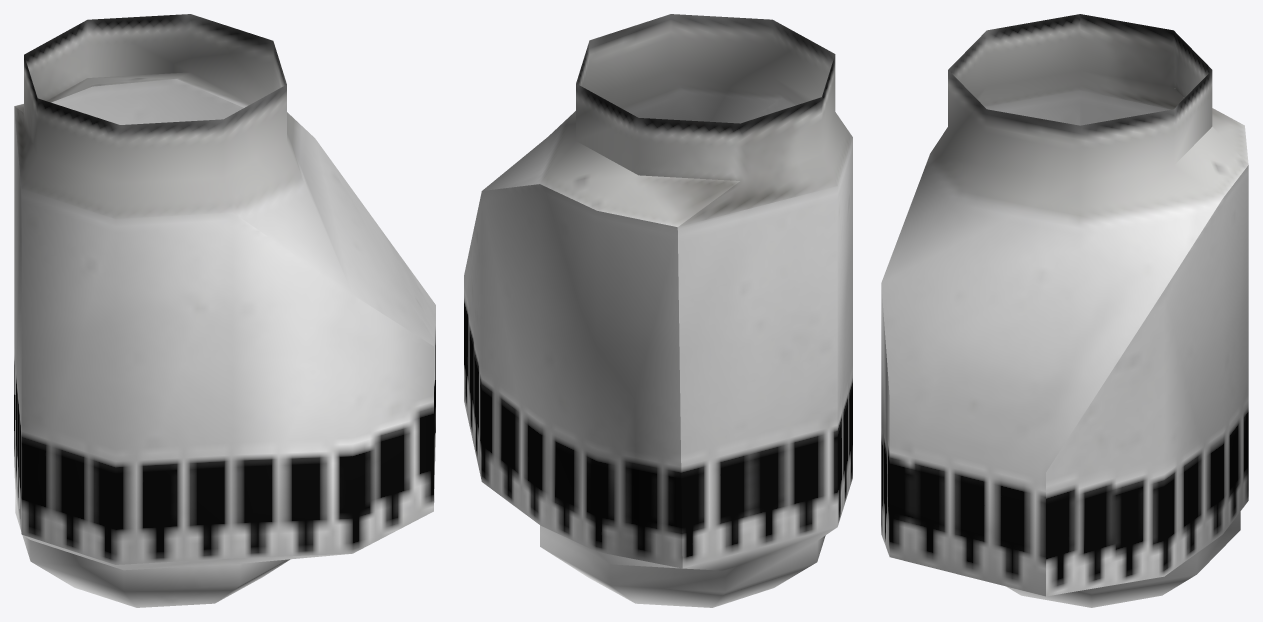
File: little_arm_link_9.dae
3 renders of one model, left to right at view 1: azimuth 30°, elevation 25°; view 2: azimuth 150°, elevation 25°; view 3: azimuth 270°, elevation 25°, orthographic. The views are drawn at different scales.
Visible parts, largest first — view 1: Little_Arm_9; view 2: Little_Arm_9; view 3: Little_Arm_9.
Part boxes in pixels (box(x1,y1,x2,y2)): Little_Arm_9: box(14, 14, 435, 607); Little_Arm_9: box(464, 14, 852, 607); Little_Arm_9: box(881, 14, 1248, 607).
Bounding box in the file's own units: 0.3185 × 0.2632 × 0.3869.
Materials: 1 (1 with a texture image).
